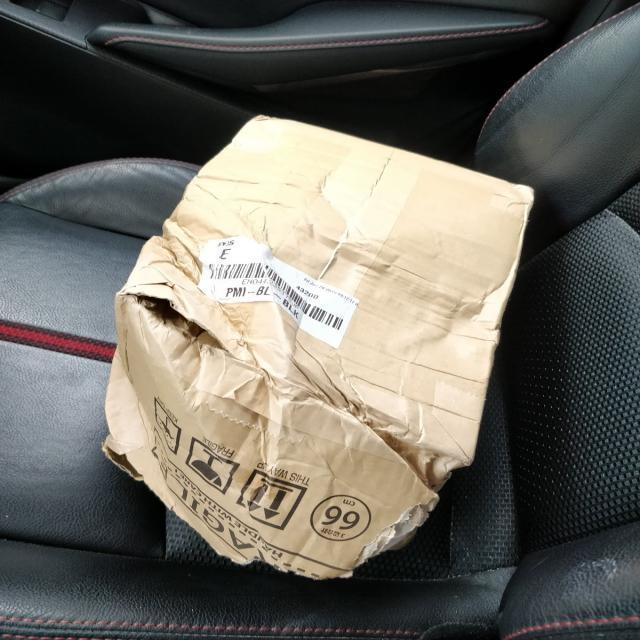damaged: (131, 288, 200, 341)
